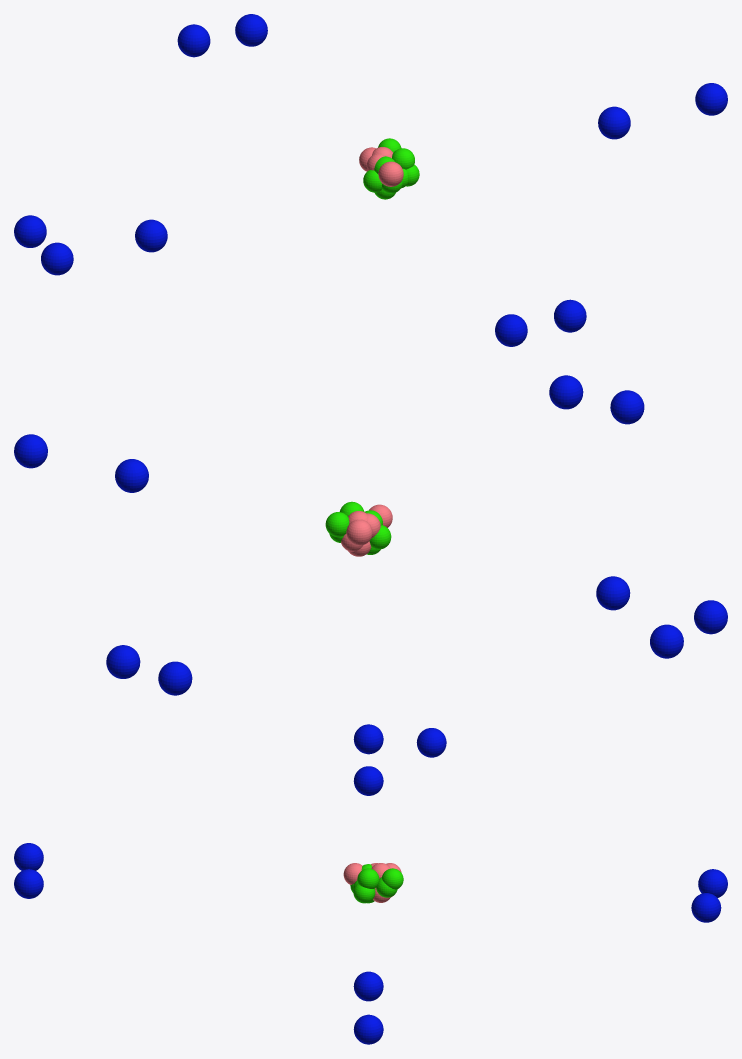
Rendered from flurine.glb.
The picture shows the model from 3 angles, top to bottom: view 1: azimuth 30°, elevation 25°; view 2: azimuth 150°, elevation 25°; view 3: azimuth 270°, elevation 25°; orthographic projection. The views are drawn at different scales.
Parts seen in each view (by area): view 1: Sphere.012, Sphere.014, Sphere.019, Sphere.020, Sphere.007, Sphere.008, Sphere.011, Sphere.006, Sphere.021; view 2: Sphere.011, Sphere.019, Sphere.007, Sphere.008, Sphere.012, Sphere.021, Sphere.006, Sphere.014, Sphere.020, Sphere.015; view 3: Sphere.006, Sphere.008, Sphere.012, Sphere.014, Sphere.021, Sphere.020, Sphere.007, Sphere.019, Sphere.011.
Boxes of the visible parts, x1,y1,x2,y2 form: Sphere.012: (41,242,73,275); Sphere.014: (695,83,727,115); Sphere.019: (495,314,527,346); Sphere.020: (235,14,267,46); Sphere.007: (135,219,167,252); Sphere.008: (554,299,586,332); Sphere.011: (177,24,210,57); Sphere.006: (598,106,630,139); Sphere.021: (14,215,46,247); Sphere.011: (158,661,192,695); Sphere.019: (610,390,644,424); Sphere.007: (596,576,630,610); Sphere.008: (549,375,583,409); Sphere.012: (694,600,727,634); Sphere.021: (650,624,683,658); Sphere.006: (115,459,148,492); Sphere.014: (14,434,47,468); Sphere.020: (106,645,140,678); Sphere.015: (346,519,372,545); Sphere.006: (353,971,383,1001); Sphere.008: (14,869,43,898); Sphere.012: (353,724,383,754); Sphere.014: (353,1014,383,1044); Sphere.021: (416,728,446,757); Sphere.020: (691,893,721,922); Sphere.007: (353,766,383,795); Sphere.019: (14,843,43,870); Sphere.011: (698,869,727,897).
Size of the model in its own units: 3.41 by 0.2134 by 3.39.
